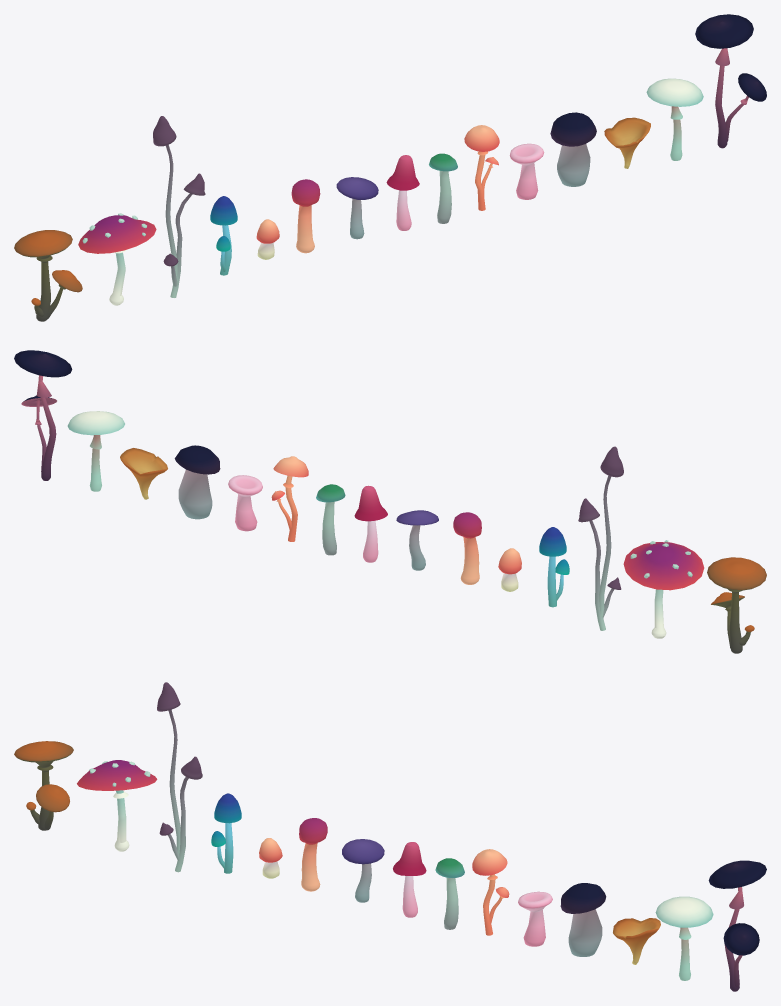
The model's file is mushrooms.glb.
3 views of the same model, one above another, from view 1: azimuth 30°, elevation 25°; view 2: azimuth 150°, elevation 25°; view 3: azimuth 330°, elevation 25° (orthographic).
Parts seen in each view (by area): view 1: Cylinder.024_14, Cylinder.010_9, Cylinder.011_10, Cylinder_0, Cylinder.008_7, Cylinder.013_13, Cylinder.005_5, Cylinder.001_1, Cylinder.004_4, Cylinder.012_12, Cylinder.007_6, Cylinder.006_11 (+3 smaller); view 2: Cylinder.010_9, Cylinder.011_10, Cylinder.024_14, Cylinder_0, Cylinder.008_7, Cylinder.013_13, Cylinder.009_8, Cylinder.005_5, Cylinder.004_4, Cylinder.012_12, Cylinder.001_1, Cylinder.006_11 (+3 smaller); view 3: Cylinder.024_14, Cylinder.011_10, Cylinder_0, Cylinder.010_9, Cylinder.008_7, Cylinder.013_13, Cylinder.001_1, Cylinder.005_5, Cylinder.007_6, Cylinder.009_8, Cylinder.004_4, Cylinder.012_12 (+3 smaller).
Boxes of the visible parts, x1=… form: Cylinder.024_14: x1=695, y1=14, x2=766, y2=148; Cylinder.010_9: x1=78, y1=213, x2=156, y2=305; Cylinder.011_10: x1=14, y1=230, x2=82, y2=321; Cylinder_0: x1=550, y1=112, x2=596, y2=186; Cylinder.008_7: x1=153, y1=116, x2=205, y2=297; Cylinder.013_13: x1=646, y1=78, x2=703, y2=160; Cylinder.005_5: x1=291, y1=179, x2=320, y2=253; Cylinder.001_1: x1=464, y1=125, x2=499, y2=210; Cylinder.004_4: x1=386, y1=155, x2=419, y2=230; Cylinder.012_12: x1=604, y1=117, x2=650, y2=168; Cylinder.007_6: x1=336, y1=177, x2=378, y2=239; Cylinder.006_11: x1=509, y1=143, x2=544, y2=199; Cylinder.010_9: x1=623, y1=540, x2=704, y2=638; Cylinder.011_10: x1=707, y1=557, x2=766, y2=653; Cylinder.024_14: x1=14, y1=350, x2=72, y2=480; Cylinder_0: x1=174, y1=445, x2=220, y2=519; Cylinder.008_7: x1=578, y1=446, x2=623, y2=630; Cylinder.013_13: x1=67, y1=411, x2=124, y2=491; Cylinder.009_8: x1=539, y1=527, x2=569, y2=607; Cylinder.005_5: x1=453, y1=512, x2=481, y2=584; Cylinder.004_4: x1=354, y1=485, x2=387, y2=562; Cylinder.012_12: x1=120, y1=448, x2=167, y2=499; Cylinder.001_1: x1=271, y1=456, x2=308, y2=541; Cylinder.006_11: x1=228, y1=475, x2=262, y2=531; Cylinder.024_14: x1=708, y1=860, x2=766, y2=991; Cylinder.011_10: x1=14, y1=741, x2=73, y2=830; Cylinder_0: x1=560, y1=883, x2=606, y2=956; Cylinder.010_9: x1=77, y1=760, x2=157, y2=851; Cylinder.008_7: x1=157, y1=682, x2=202, y2=872; Cylinder.013_13: x1=655, y1=896, x2=713, y2=980; Cylinder.001_1: x1=472, y1=849, x2=509, y2=935; Cylinder.005_5: x1=299, y1=818, x2=327, y2=891; Cylinder.007_6: x1=342, y1=839, x2=384, y2=902; Cylinder.009_8: x1=211, y1=793, x2=241, y2=873; Cylinder.004_4: x1=393, y1=842, x2=426, y2=917; Cylinder.012_12: x1=613, y1=918, x2=660, y2=964.
Size of the model in its own units: 57.92 by 13.78 by 5.38.
Materials: 1 (1 with a texture image).
